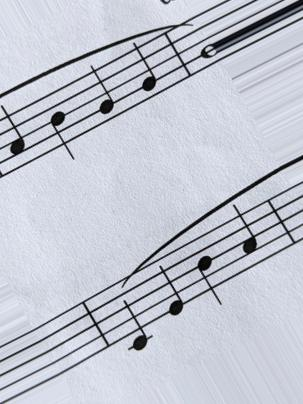note: (115, 283, 160, 359), (42, 94, 81, 162), (192, 237, 226, 308), (152, 261, 189, 320), (228, 205, 262, 269), (86, 63, 120, 124), (128, 43, 165, 98), (1, 105, 33, 168)
